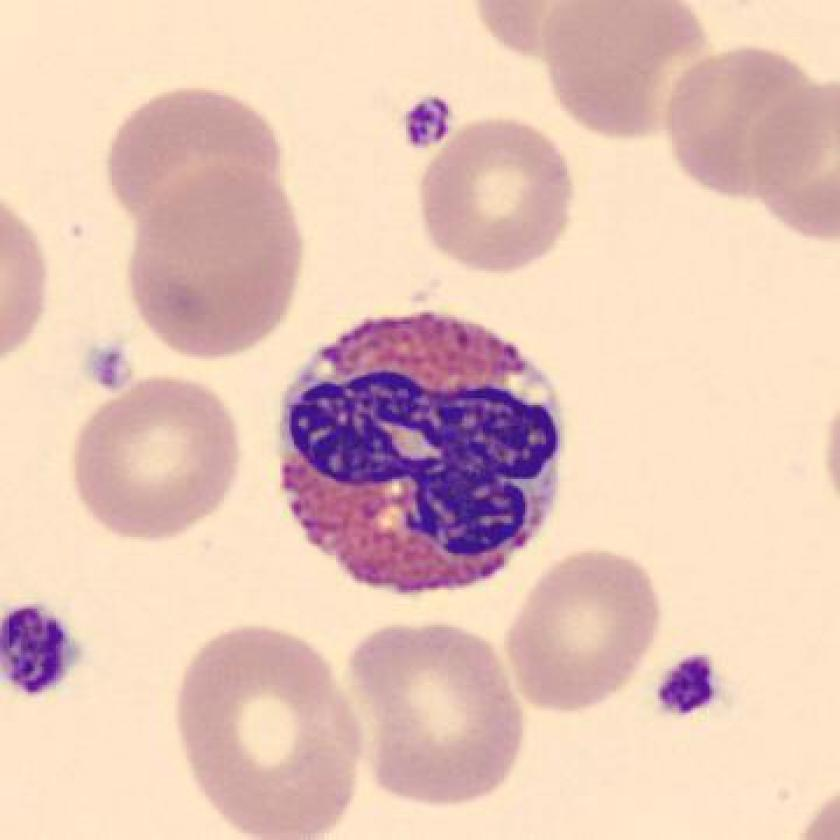eosinophil: (265, 300, 580, 610)
